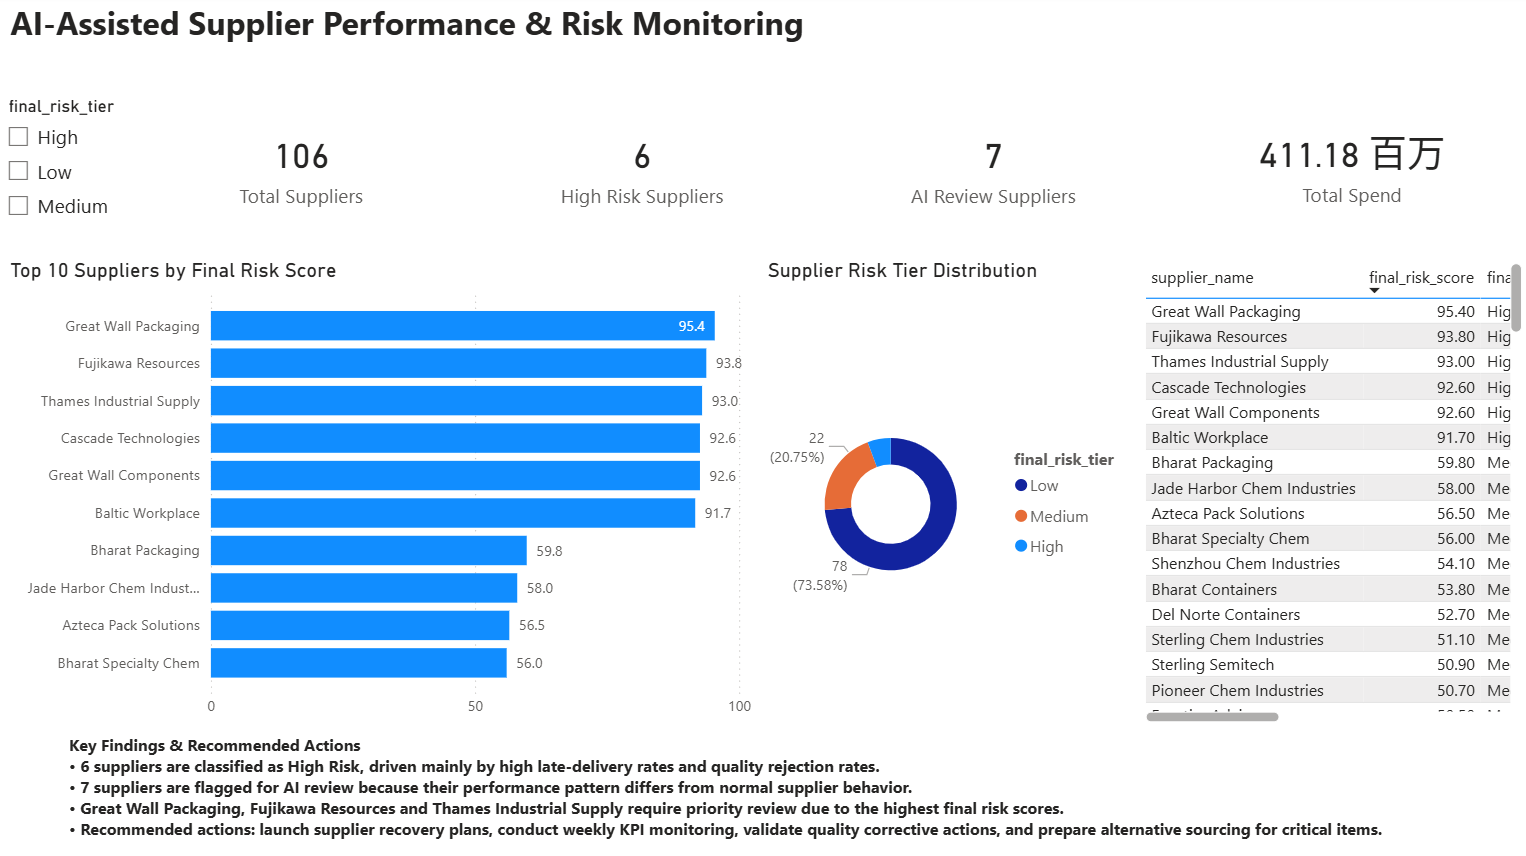

What the dashboard file says about the page in this screenshot:
{"tool":"powerbi","page":{"name":"供应商风险总览","canvas":[1280,720],"ordinal":0},"visuals":[{"type":"textbox","box":[9.6,0,1270.7,64.5],"z":0},{"type":"card","fields":{"Values":["supplier_risk_final.Total Suppliers"]},"box":[117.1,67.5,278.4,150.2],"z":1000},{"type":"card","fields":{"Values":["supplier_risk_final.High Risk Suppliers"]},"box":[395.5,67.5,288,150.2],"z":2000},{"type":"card","fields":{"Values":["supplier_risk_final.AI Review Suppliers"]},"box":[683.6,67.5,296.3,150.2],"z":3000},{"type":"card","fields":{"Values":["supplier_risk_final.Total Spend"]},"box":[979.8,66.2,300.4,150.2],"z":4000},{"type":"clusteredBarChart","title":"Top 10 Suppliers by Final Risk Score","fields":{"Category":["supplier_risk_final.supplier_name"],"Y":["Max(supplier_risk_final.final_risk_score)"]},"box":[9.6,217.7,635.3,391.4],"z":5000},{"type":"donutChart","title":"Supplier Risk Tier Distribution","fields":{"Category":["supplier_risk_final.final_risk_tier"],"Y":["CountNonNull(supplier_risk_final.supplier_id)"]},"box":[639.5,217.7,312.8,391.4],"z":6000},{"type":"tableEx","fields":{"Values":["supplier_risk_final.supplier_name","supplier_risk_final.final_risk_score","supplier_risk_final.final_risk_tier","supplier_risk_final.ai_anomaly_flag","supplier_risk_final.late_rate","supplier_risk_final.reject_rate","supplier_risk_final.avg_delay_days","supplier_risk_final.business_risk_score"]},"box":[952.3,217.7,323.9,391.4],"z":7000},{"type":"slicer","fields":{"Values":["supplier_risk_final.final_risk_tier"]},"box":[0,78.6,147.5,125.4],"z":8000},{"type":"textbox","box":[57.9,609.1,1175.5,110.3],"z":9000}]}

Visuals, with their boxes in screenshot pixels (x1, y1, x2, y2), scaled from the page's 1280x720 canvas onto the 1526x856 screenshot:
textbox: 11:0:1525:77
card - supplier_risk_final.Total Suppliers: 140:80:472:259
card - supplier_risk_final.High Risk Suppliers: 472:80:815:259
card - supplier_risk_final.AI Review Suppliers: 815:80:1168:259
card - supplier_risk_final.Total Spend: 1168:79:1525:257
"Top 10 Suppliers by Final Risk Score" clusteredBarChart: 11:259:769:724
"Supplier Risk Tier Distribution" donutChart: 762:259:1135:724
tableEx - supplier_risk_final.supplier_name x supplier_risk_final.final_risk_score: 1135:259:1521:724
slicer - supplier_risk_final.final_risk_tier: 0:93:176:243
textbox: 69:724:1470:855
